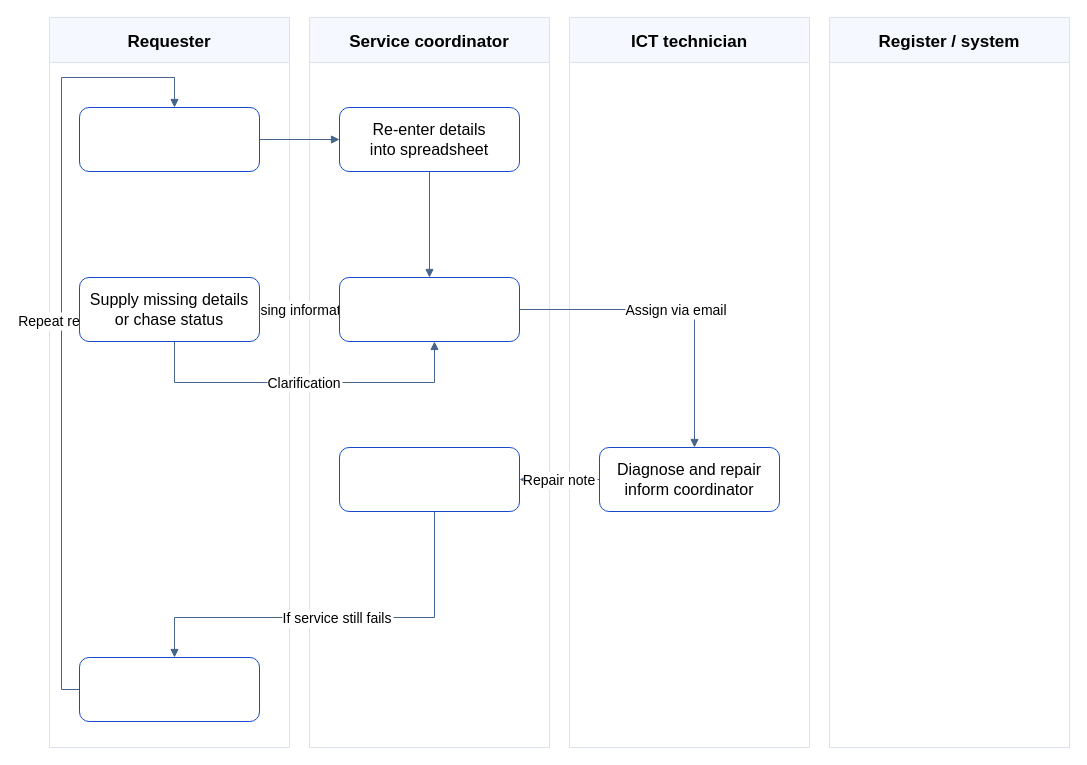
Some shapes in this 1087 by 765 pixel diagram are drawn without their labels. Here are the shapes that lost their labels. From the top down, the centre of each, then its label:
the point at 169,139: Detect fault email or phone
the point at 429,309: Clarify and prioritise manual follow-up
the point at 429,479: Update spreadsheet close without confirmation
the point at 169,689: Discover unresolved fault send another email
